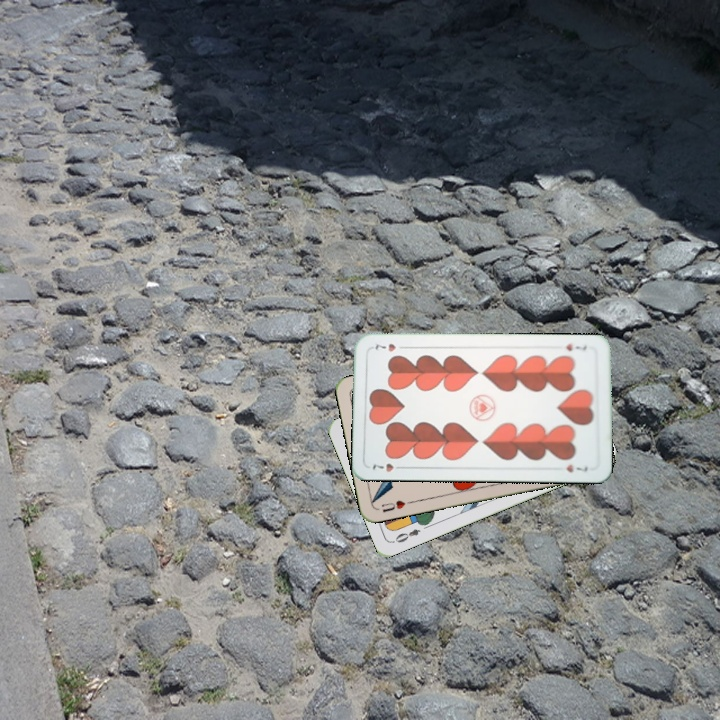EO: (389, 525, 423, 545)
H7: (368, 459, 407, 474), (562, 340, 589, 353)
HU: (378, 496, 415, 515)
